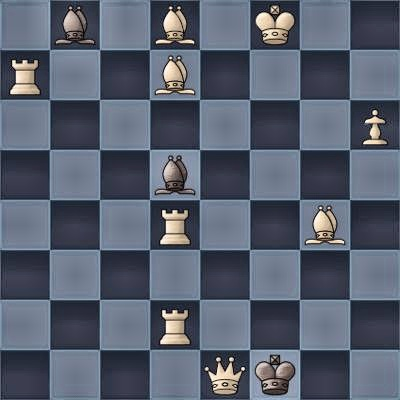black-bishop: (50, 0, 100, 50), (150, 150, 200, 200)
black-king: (250, 350, 300, 400)
white-bishop: (150, 0, 200, 50), (150, 50, 200, 100), (300, 200, 350, 250)
white-king: (250, 0, 300, 50)
white-pawn: (350, 100, 400, 150)
white-queen: (200, 350, 250, 400)
white-rook: (0, 50, 50, 100), (150, 200, 200, 250), (150, 300, 200, 350)
